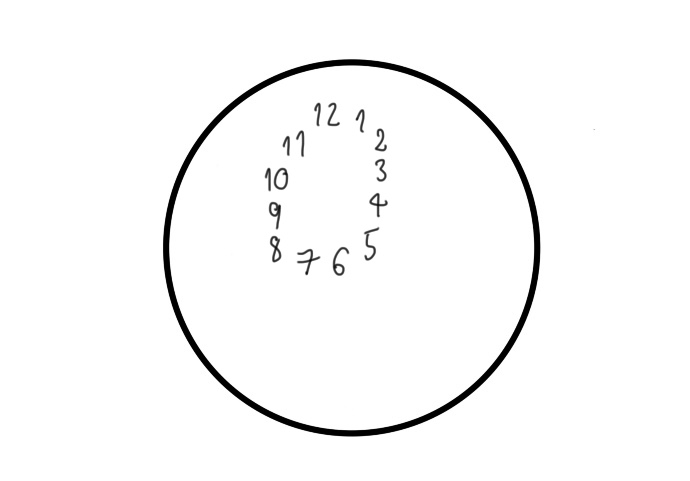eight: (268, 234, 284, 264)
eleven: (281, 128, 307, 159)
five: (362, 227, 378, 263)
four: (367, 190, 389, 218)
nine: (267, 198, 282, 231)
one: (354, 107, 370, 135)
seven: (295, 245, 322, 276)
six: (332, 246, 350, 276)
ten: (263, 162, 290, 193)
three: (373, 155, 389, 185)
twelve: (314, 97, 341, 129)
two: (373, 126, 389, 155)
